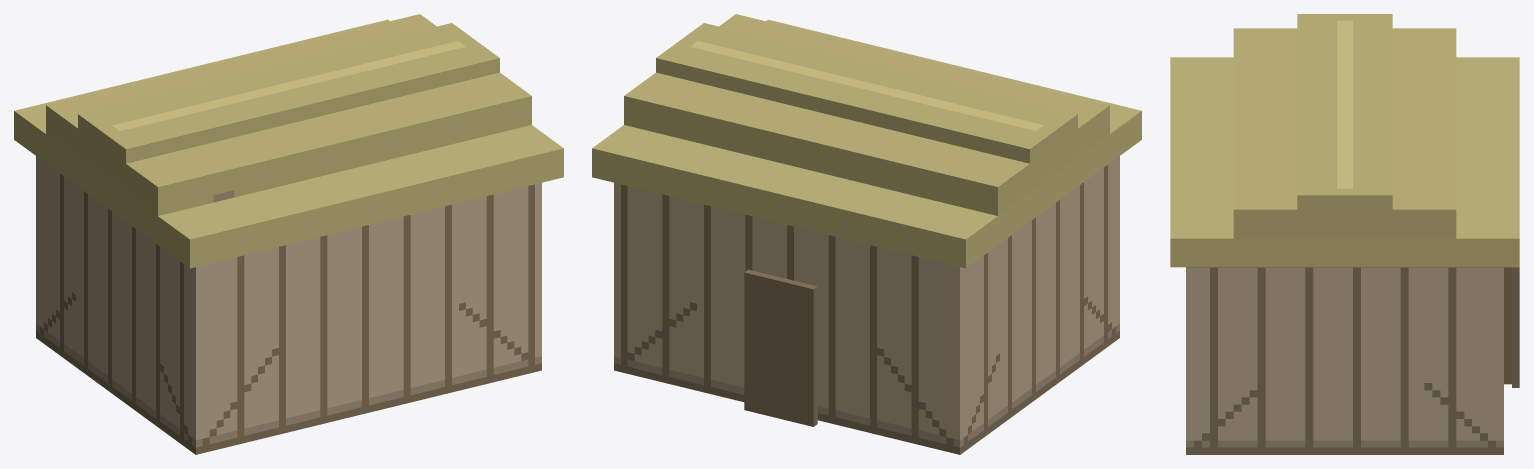
Rendered from carromato_mercader_01.glb.
3 renders of one model, left to right at view 1: azimuth 30°, elevation 25°; view 2: azimuth 150°, elevation 25°; view 3: azimuth 270°, elevation 25°, orthographic.
Visible parts, largest first — view 1: carromato_mercader_01; view 2: carromato_mercader_01; view 3: carromato_mercader_01.
Boxes of the visible parts, x1,y1,x2,y2 form: carromato_mercader_01: (14,14,563,454); carromato_mercader_01: (592,14,1141,454); carromato_mercader_01: (1170,14,1519,454).
Bounding box in the file's own units: 5.4 × 3.7 × 4.4.
